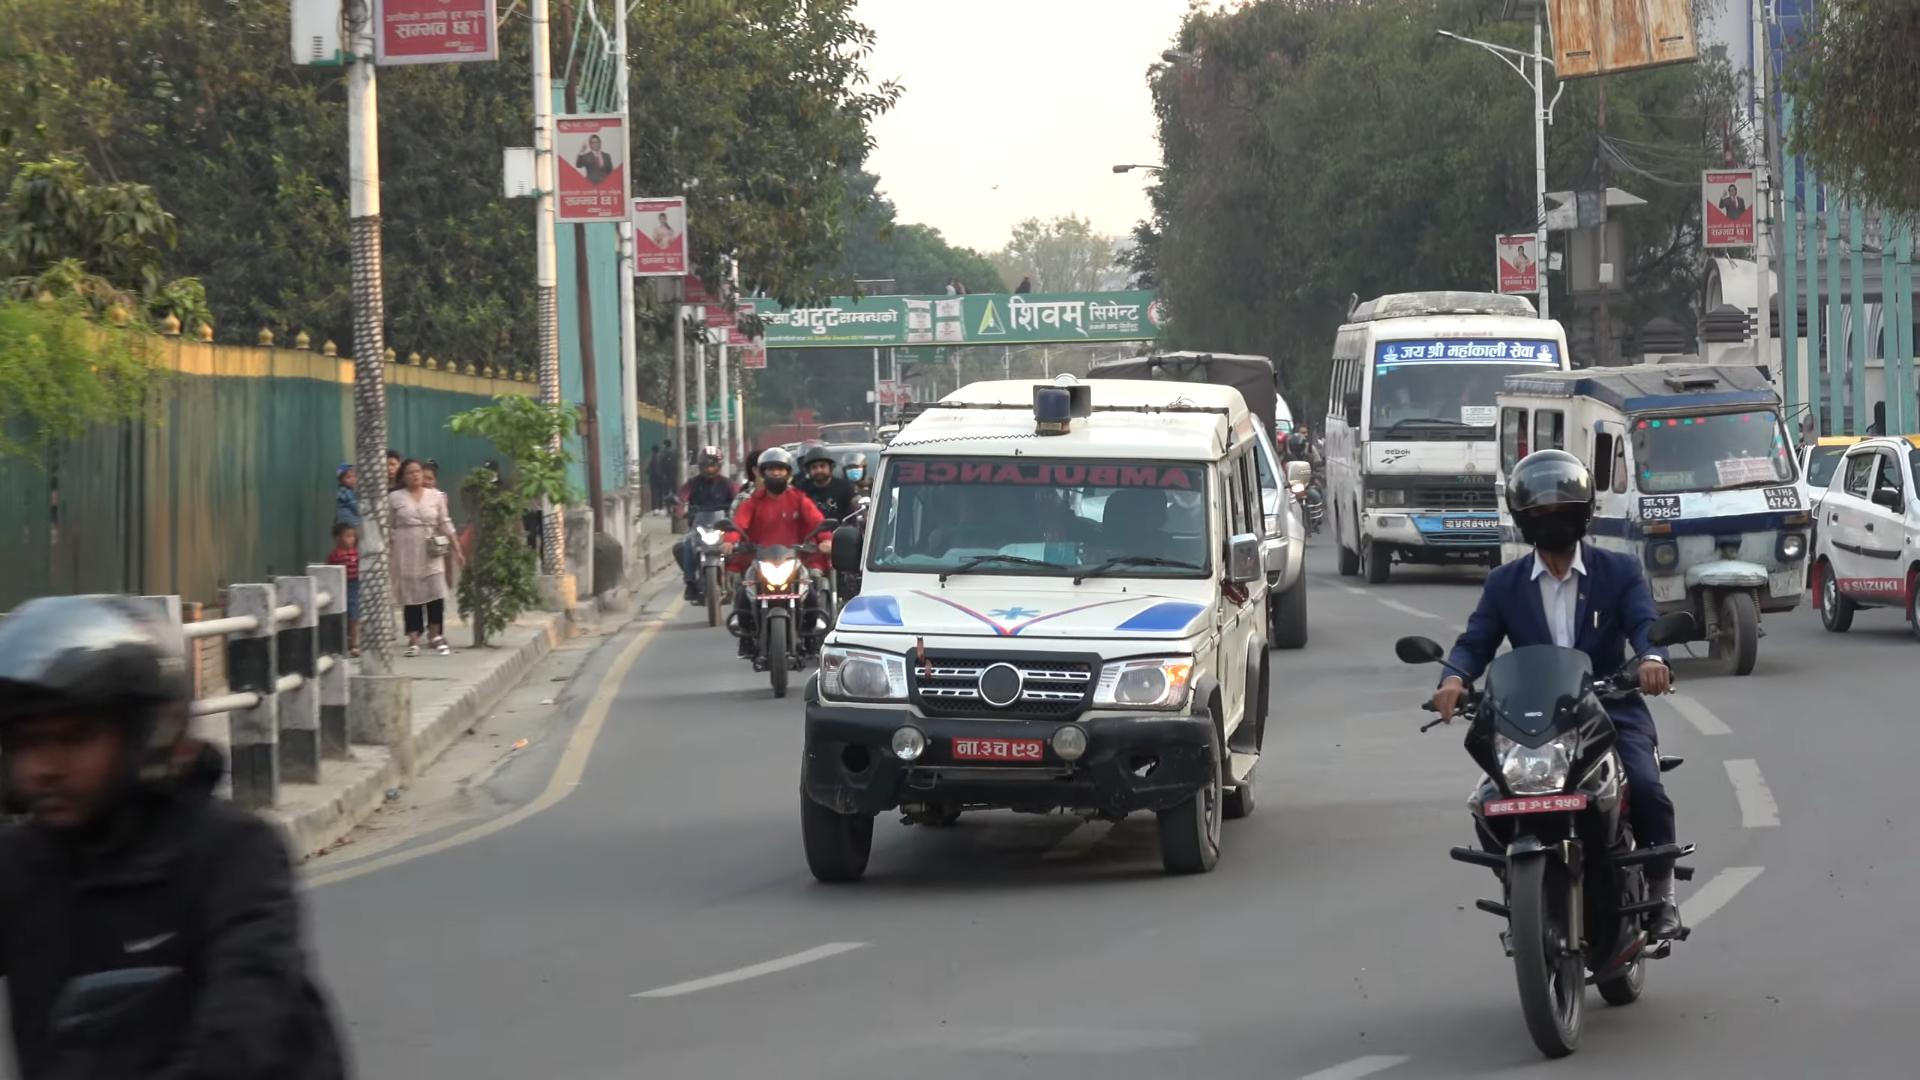ambulance: (794, 367, 1288, 882)
bike: (1389, 604, 1705, 1060), (721, 510, 823, 709), (669, 498, 737, 636)
bus: (1324, 280, 1578, 593)
taxi: (1805, 429, 1920, 649)
tempo: (1485, 355, 1818, 670)
